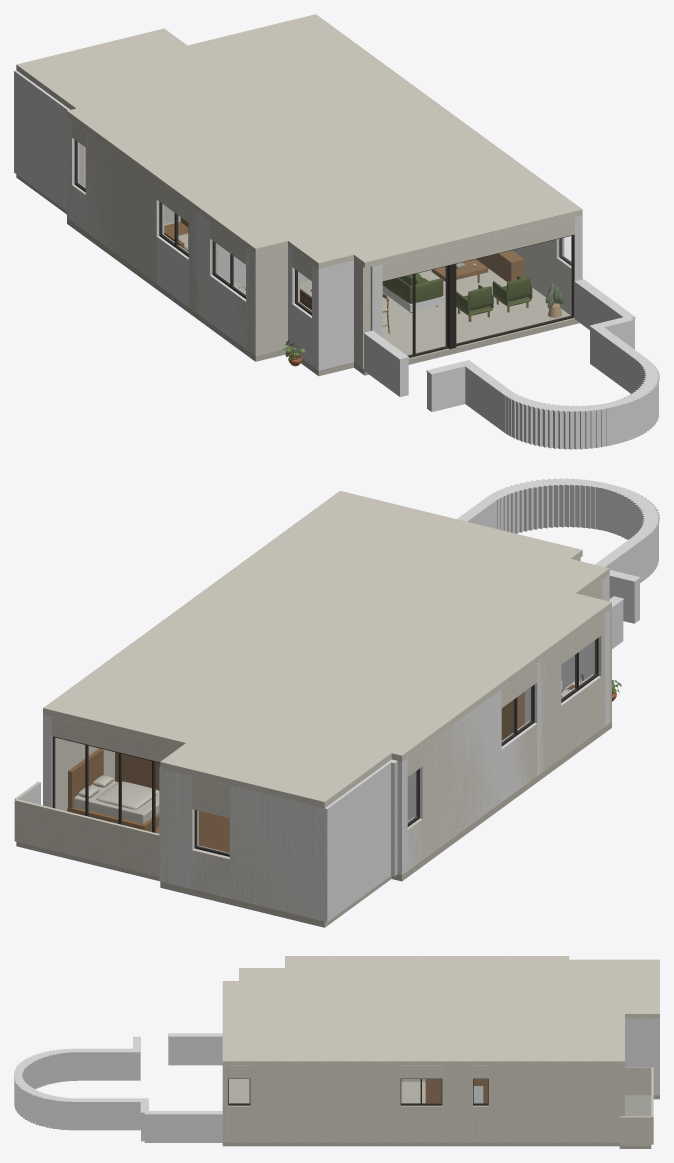
Rendered from bilu6_representative.glb.
3 views of the same model, one above another, from view 1: azimuth 30°, elevation 25°; view 2: azimuth 150°, elevation 25°; view 3: azimuth 270°, elevation 25° (orthographic). The views are drawn at different scales.
Visible parts, largest first — view 1: STATIC_public_WEB_Mineral_plaster_warm_offwhite.001, Floor_slab_000.001, Daylit_Interior_Furnishings, COL_Architectural_wall_segment_017, COL_Architectural_wall_segment_101, STATIC_public_WEB_Dark_bronze_powdercoat.001, COL_Architectural_wall_segment_072, COL_Architectural_wall_segment_082, COL_Terrace_parapet_or_cap_403, COL_Architectural_wall_segment_073, COL_Terrace_parapet_or_cap_503, COL_Architectural_wall_segment_081 (+7 smaller); view 2: STATIC_public_WEB_Mineral_plaster_warm_offwhite.001, COL_Architectural_wall_segment_008, COL_Architectural_wall_segment_072, Daylit_Interior_Furnishings, COL_Architectural_wall_segment_017, COL_Architectural_wall_segment_016, Floor_slab_000.001, STATIC_public_WEB_Dark_bronze_powdercoat.001, COL_Architectural_wall_segment_073, COL_Architectural_wall_segment_009, COL_Architectural_wall_segment_064, COL_Architectural_wall_segment_091 (+4 smaller); view 3: STATIC_public_WEB_Mineral_plaster_warm_offwhite.001, Floor_slab_000.001, COL_Terrace_parapet_or_cap_399, COL_Terrace_parapet_or_cap_403, COL_Terrace_parapet_or_cap_501, COL_Terrace_parapet_or_cap_503, COL_Architectural_wall_segment_018, COL_Architectural_wall_segment_016, STATIC_public_WEB_Terrace_mineral_paving.001, STATIC_public_WEB_Dark_bronze_powdercoat.001, Daylit_Interior_Furnishings, COL_Terrace_parapet_or_cap_400 (+3 smaller).
Boxes of the visible parts, box(x1,y1,x2,y2) form: STATIC_public_WEB_Mineral_plaster_warm_offwhite.001: box(16, 14, 582, 368); Floor_slab_000.001: box(16, 174, 579, 376); Daylit_Interior_Furnishings: box(164, 217, 563, 333); COL_Architectural_wall_segment_017: box(19, 74, 70, 210); COL_Architectural_wall_segment_101: box(314, 260, 353, 370); STATIC_public_WEB_Dark_bronze_powdercoat.001: box(74, 140, 573, 357); COL_Architectural_wall_segment_072: box(85, 130, 164, 256); COL_Architectural_wall_segment_082: box(210, 273, 245, 348); COL_Terrace_parapet_or_cap_403: box(590, 327, 637, 393); COL_Architectural_wall_segment_073: box(156, 234, 188, 306); COL_Terrace_parapet_or_cap_503: box(364, 335, 408, 397); COL_Architectural_wall_segment_081: box(190, 210, 210, 322); STATIC_public_WEB_Mineral_plaster_warm_offwhite.001: box(14, 491, 611, 920); COL_Architectural_wall_segment_008: box(229, 785, 333, 922); COL_Architectural_wall_segment_072: box(414, 689, 501, 859); Daylit_Interior_Furnishings: box(67, 674, 584, 852); COL_Architectural_wall_segment_017: box(331, 759, 393, 916); COL_Architectural_wall_segment_016: box(159, 767, 198, 888); Floor_slab_000.001: box(16, 681, 611, 927); STATIC_public_WEB_Dark_bronze_powdercoat.001: box(52, 638, 598, 856); COL_Architectural_wall_segment_073: box(501, 721, 536, 801); COL_Architectural_wall_segment_009: box(192, 850, 229, 897); COL_Architectural_wall_segment_064: box(397, 758, 407, 874); COL_Architectural_wall_segment_091: box(562, 610, 609, 724); STATIC_public_WEB_Mineral_plaster_warm_offwhite.001: box(222, 956, 659, 1144); Floor_slab_000.001: box(222, 1079, 659, 1148); COL_Terrace_parapet_or_cap_399: box(144, 1115, 222, 1142); COL_Terrace_parapet_or_cap_403: box(76, 1102, 140, 1130); COL_Terrace_parapet_or_cap_501: box(77, 1053, 133, 1080); COL_Terrace_parapet_or_cap_503: box(168, 1037, 222, 1065); COL_Architectural_wall_segment_018: box(625, 1018, 651, 1067); COL_Architectural_wall_segment_016: box(651, 1018, 659, 1095); STATIC_public_WEB_Terrace_mineral_paving.001: box(624, 1095, 651, 1145); STATIC_public_WEB_Dark_bronze_powdercoat.001: box(228, 1078, 488, 1105); Daylit_Interior_Furnishings: box(425, 1079, 441, 1103); COL_Terrace_parapet_or_cap_400: box(144, 1111, 222, 1115).
Size of the model in its own units: 8.78 by 3.22 by 22.13.
Materials: 47 (16 with a texture image).
